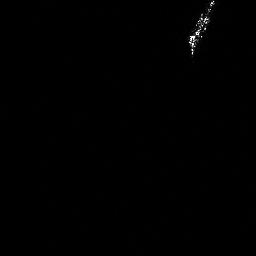ship: (184, 1, 217, 59)
